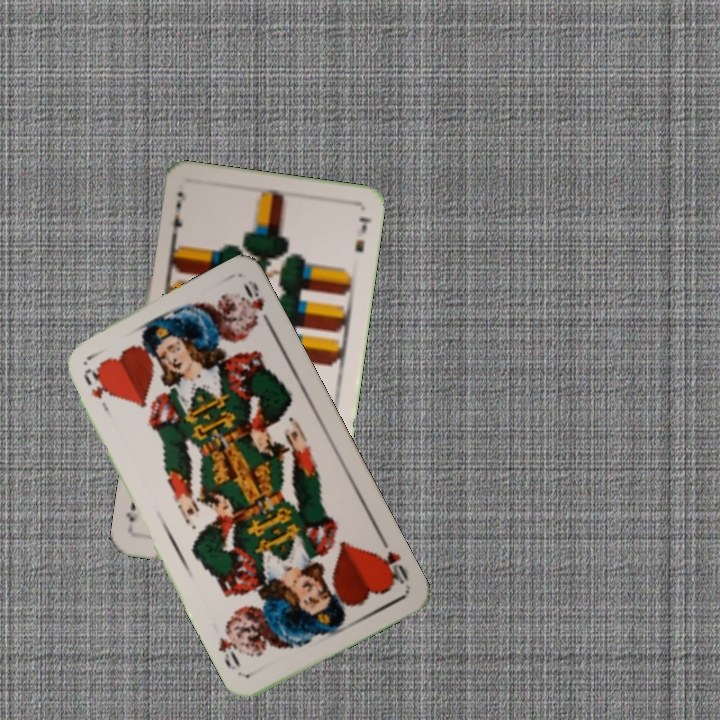E7: (167, 196, 185, 244)
HO: (372, 534, 412, 588), (79, 364, 112, 418)
